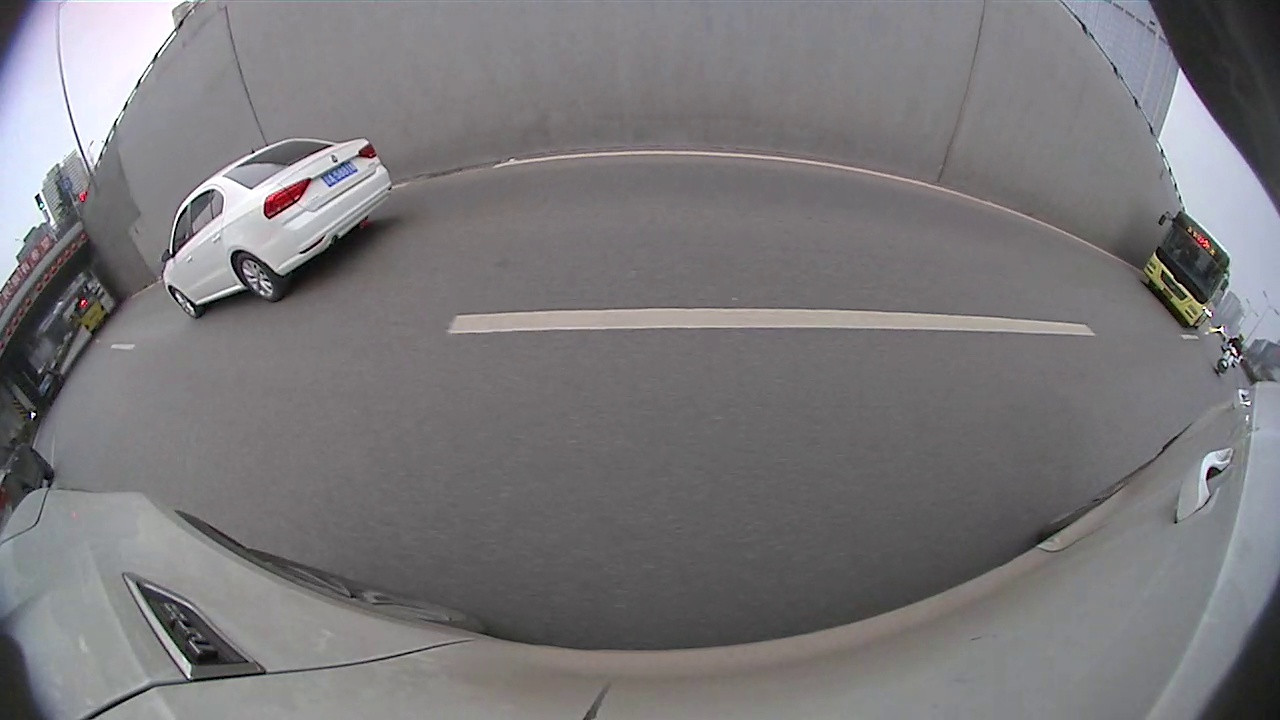bus: (941, 93, 1177, 295), (1150, 192, 1279, 390)
car: (0, 246, 234, 494), (448, 147, 561, 221)
front: (92, 311, 212, 447)
rear: (639, 148, 704, 237), (976, 208, 1020, 253), (534, 187, 544, 214)
truck: (590, 2, 1012, 237)
